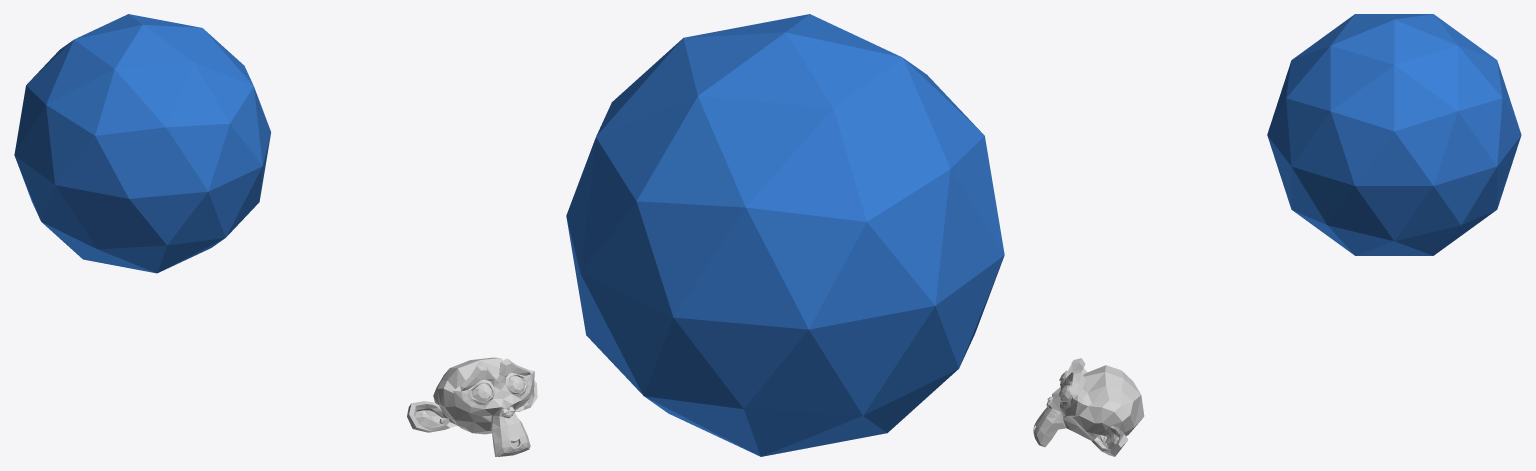
The picture shows the model from 3 angles, left to right: view 1: azimuth 30°, elevation 25°; view 2: azimuth 150°, elevation 25°; view 3: azimuth 270°, elevation 25°; orthographic projection. The views are drawn at different scales.
Visible parts, largest first — view 1: Icosphere, Suzanne; view 2: Icosphere; view 3: Icosphere, Suzanne.
Part boxes in pixels (<box>): Icosphere: <box>14,14,271,273</box>; Suzanne: <box>407,357,537,456</box>; Icosphere: <box>566,14,1004,456</box>; Icosphere: <box>1267,14,1521,255</box>; Suzanne: <box>1033,358,1144,456</box>.
Bounding box in the file's own units: 3.17 × 3.84 × 2.89.
